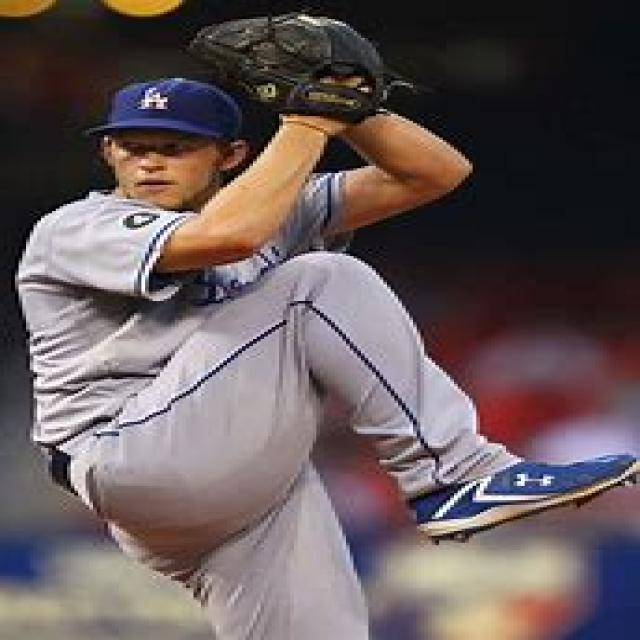glove: (179, 10, 427, 128)
